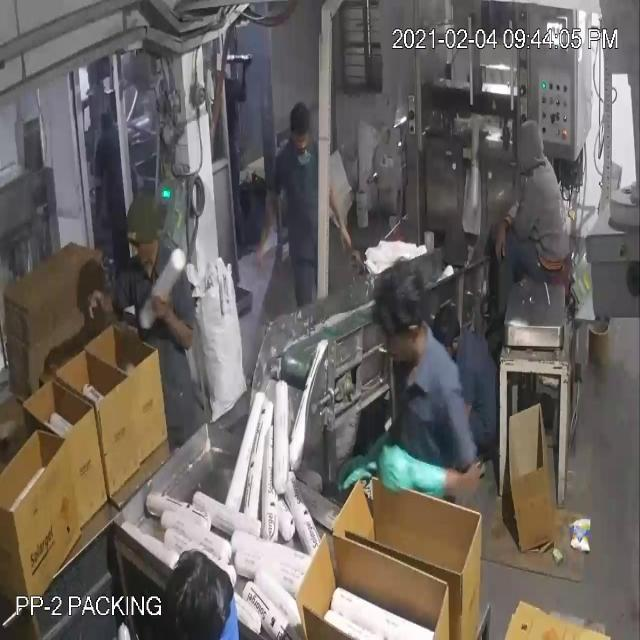gloves: (373, 436, 455, 509), (337, 425, 392, 496)
no-gloves: (146, 286, 200, 360), (253, 174, 283, 284), (323, 171, 355, 257), (84, 280, 122, 332), (486, 209, 518, 261)
